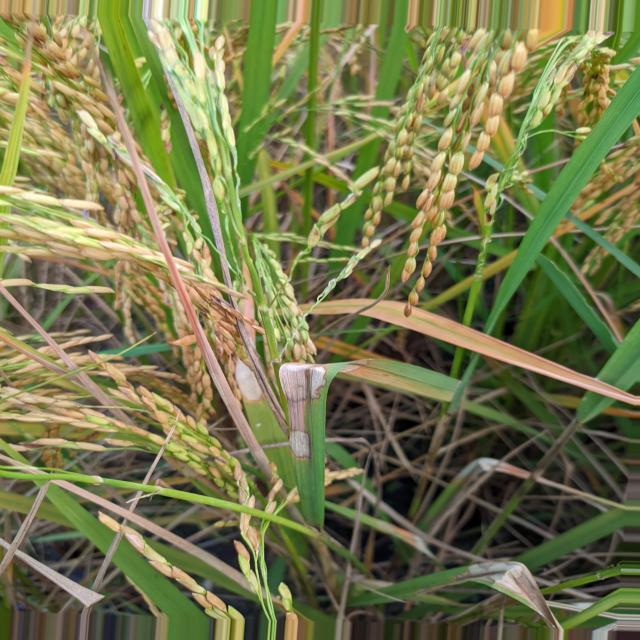Leaf_Blast: (360, 300, 640, 405), (313, 336, 393, 360), (312, 299, 373, 315)
Rice False Smut: (457, 561, 562, 640), (280, 362, 325, 459), (235, 359, 263, 402), (455, 458, 507, 480)
